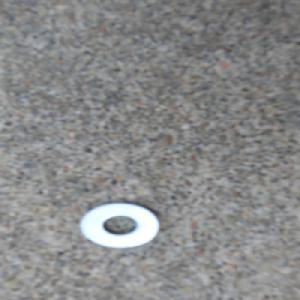Washer: (79, 200, 164, 250)
